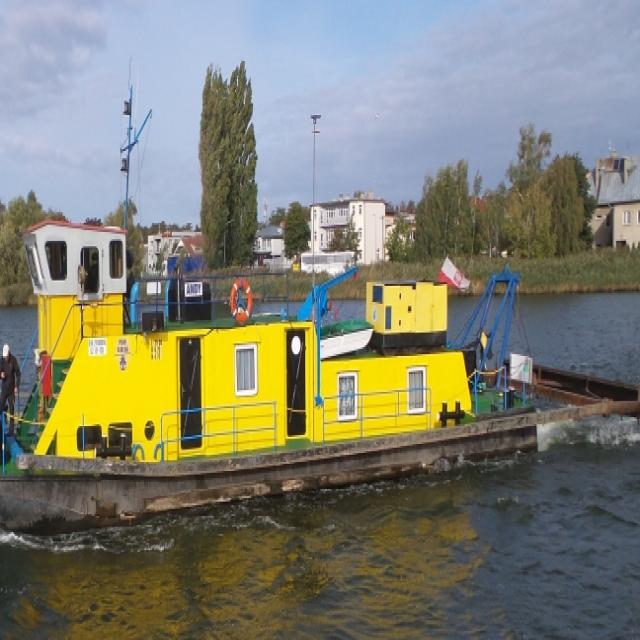tugboat: (1, 77, 640, 555)
